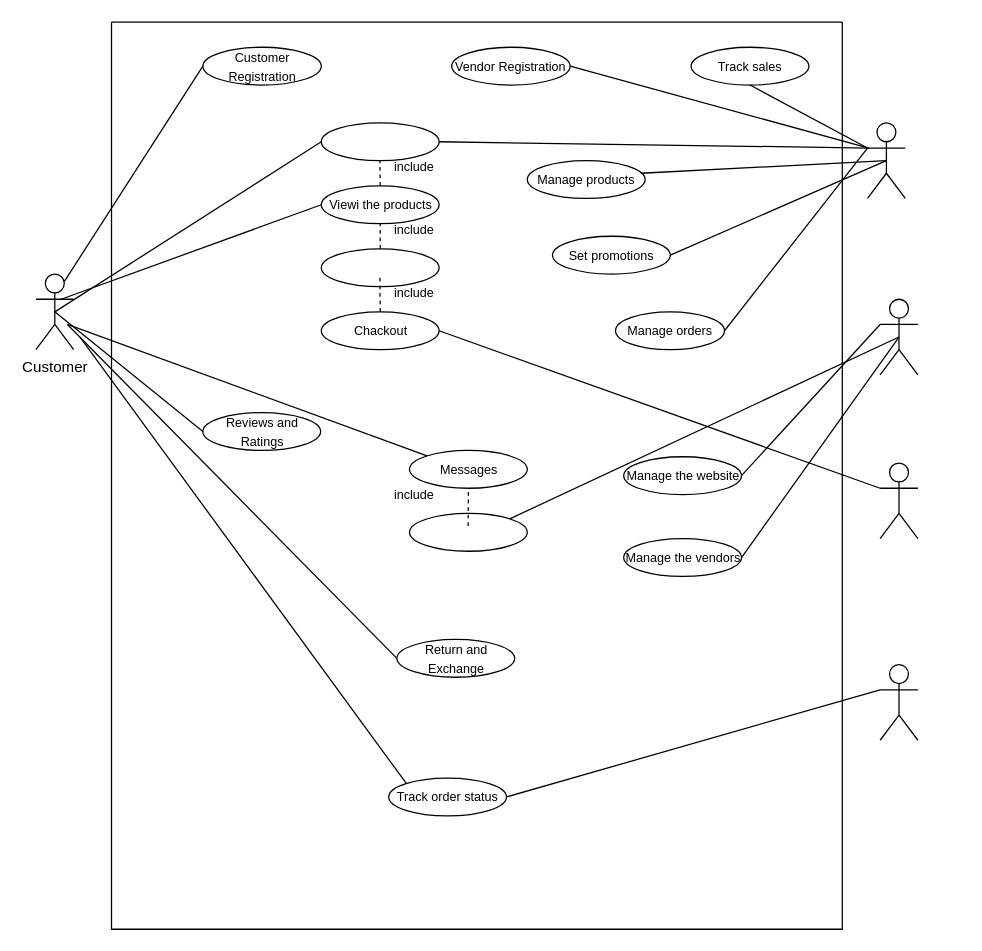
The diagram is 982 pixels wide and 951 high, and some of its shapes have lost their labels. Each missing label, with the centre of its shape:
Administrator: (898,336)
Customer support: (467,531)
Manage cart: (379,267)
Payment Gateway: (898,500)
Searching the products: (379,141)
Shipping carrier: (898,701)
Vendor: (885,160)
